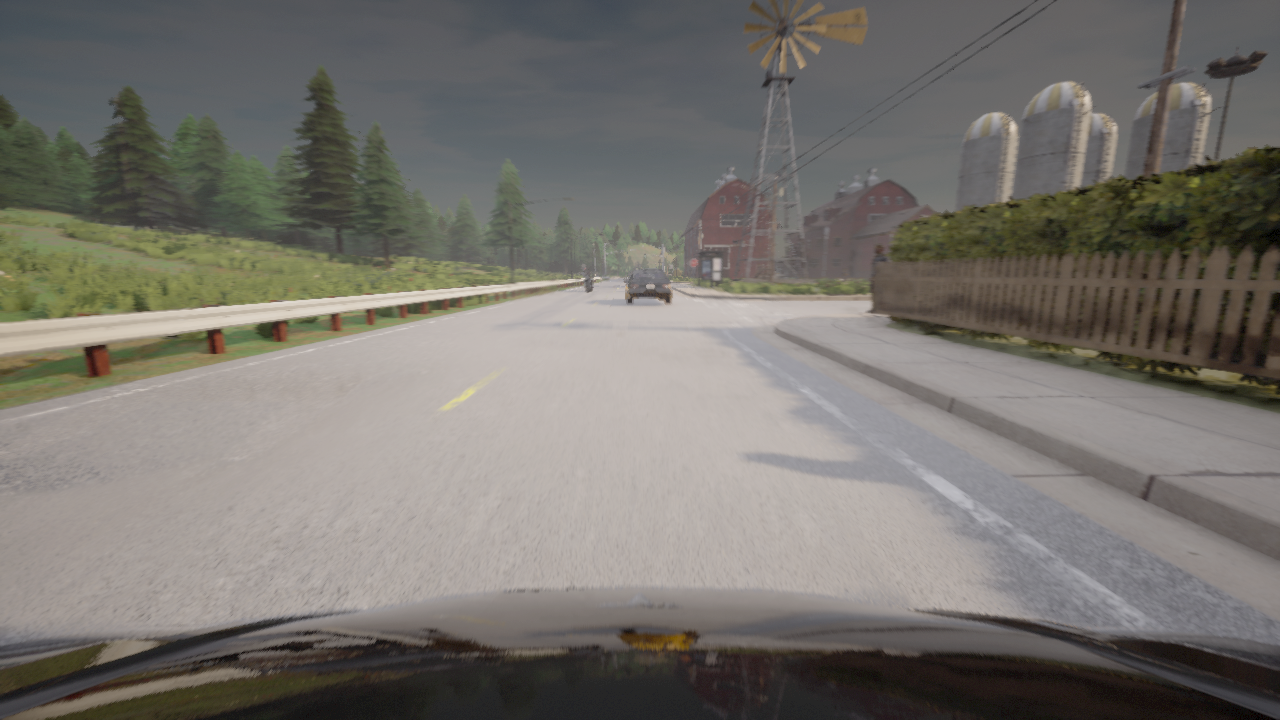cyclist: (0, 588, 1279, 719), (624, 269, 671, 303), (754, 268, 786, 278), (585, 275, 591, 291), (838, 277, 849, 280)
pedestrian: (866, 244, 888, 313)
